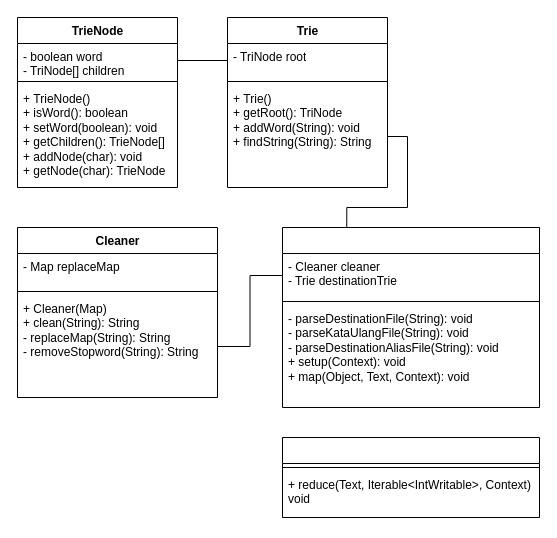
This 557x538 diagram has some shape labels left out. Each missing label, with the box of its shape:
DateReducer: (282, 436, 540, 518)
WordMapper: (282, 226, 540, 408)
